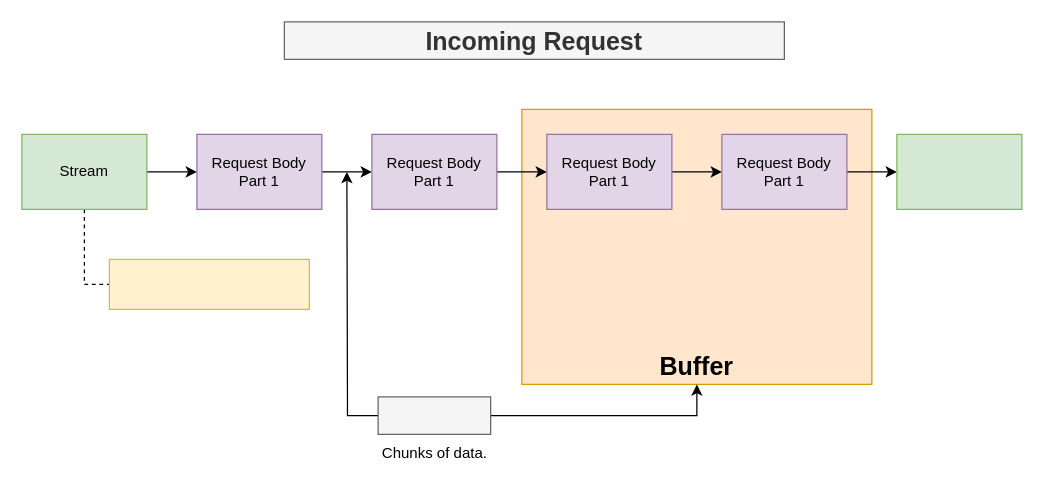
Some shapes in this 1044 by 494 pixel diagram are drawn without their labels. The centre of each missing label's shape, as x and y in pixels:
Code: (x=434, y=415)
Fully Parsed: (x=959, y=171)
Idea: Start working on the Data early: (x=208, y=283)
